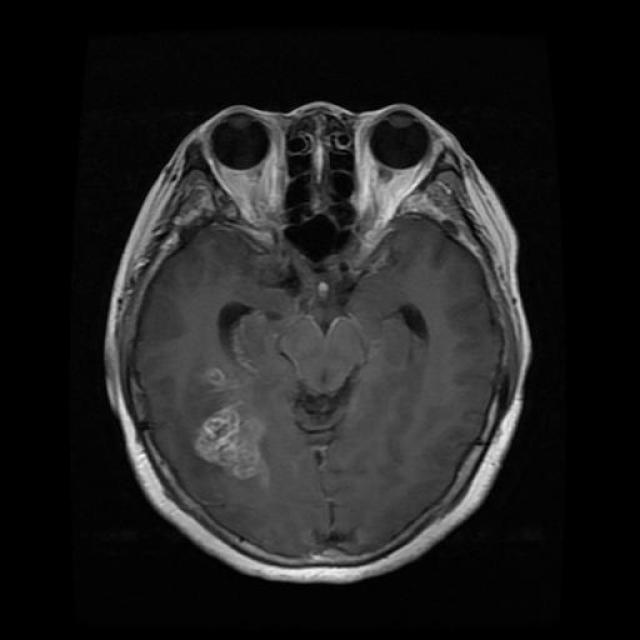Brain-Tumor: (185, 360, 285, 489)
eye: (193, 100, 297, 244), (354, 97, 440, 249)
